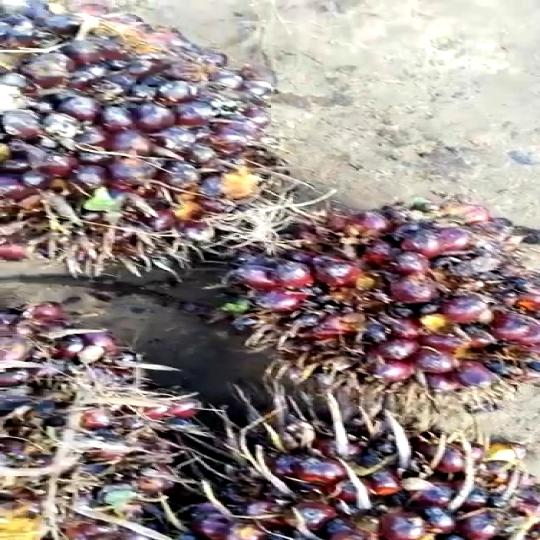masak: (0, 2, 278, 267), (225, 195, 540, 417)
